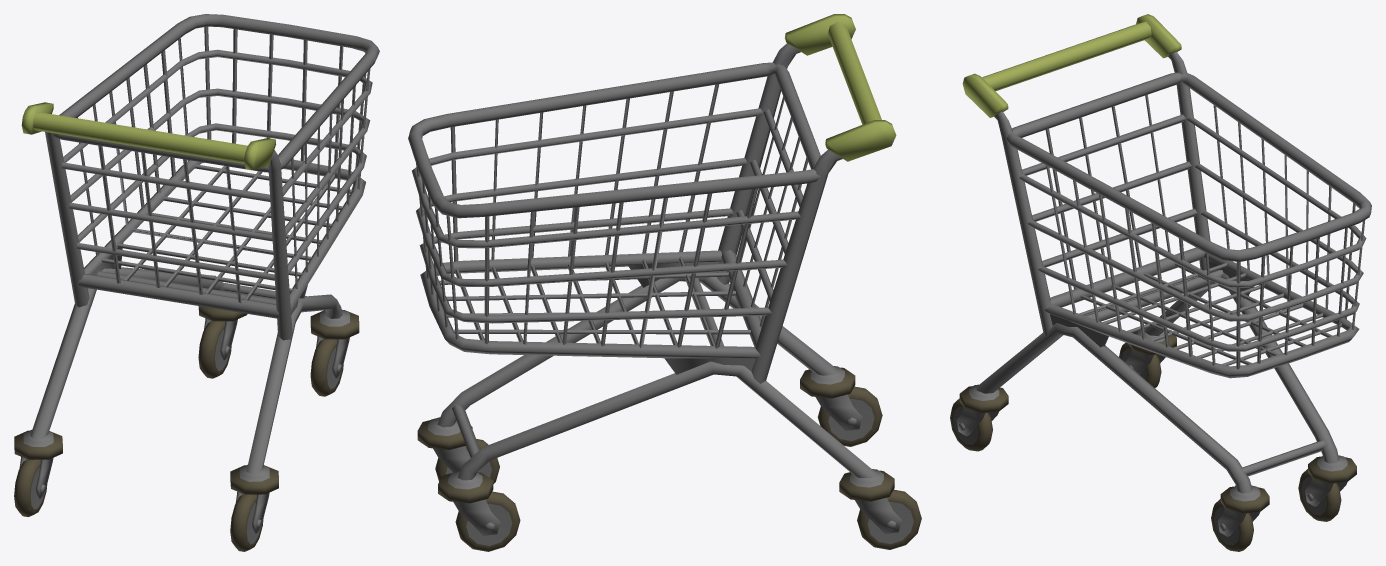
3 renders of one model, left to right at view 1: azimuth 30°, elevation 25°; view 2: azimuth 150°, elevation 25°; view 3: azimuth 270°, elevation 25°, orthographic. The views are drawn at different scales.
Parts seen in each view (by area): view 1: Einkaufswagen; view 2: Einkaufswagen; view 3: Einkaufswagen.
Boxes of the visible parts, left/top/right/bottom form: Einkaufswagen: left=14, top=14, right=379, bottom=551; Einkaufswagen: left=408, top=14, right=921, bottom=551; Einkaufswagen: left=950, top=14, right=1371, bottom=551.
Bounding box in the file's own units: 235 × 216 × 219.
